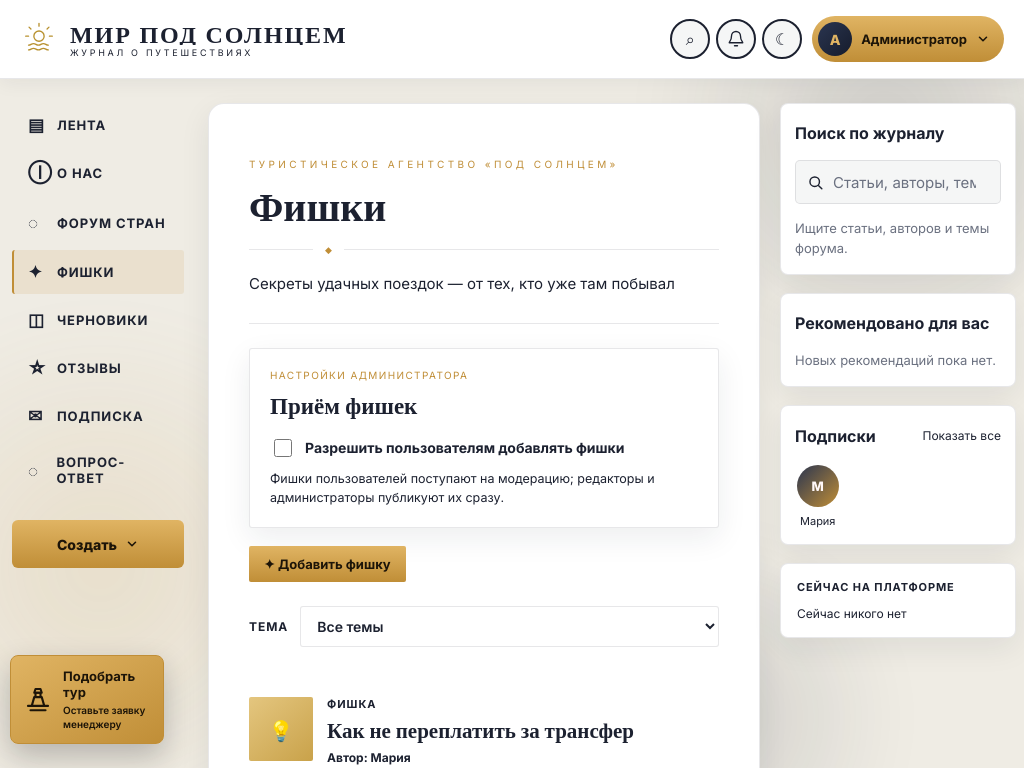
Test: App pathname routing › keeps the admin fishka setting unchanged when its update fails
This screenshot has width=1024, height=768.
Click the checkbox labelled "Разрешить пользователям добавлять фишки".
click(283, 448)  # box [274,439,292,457]
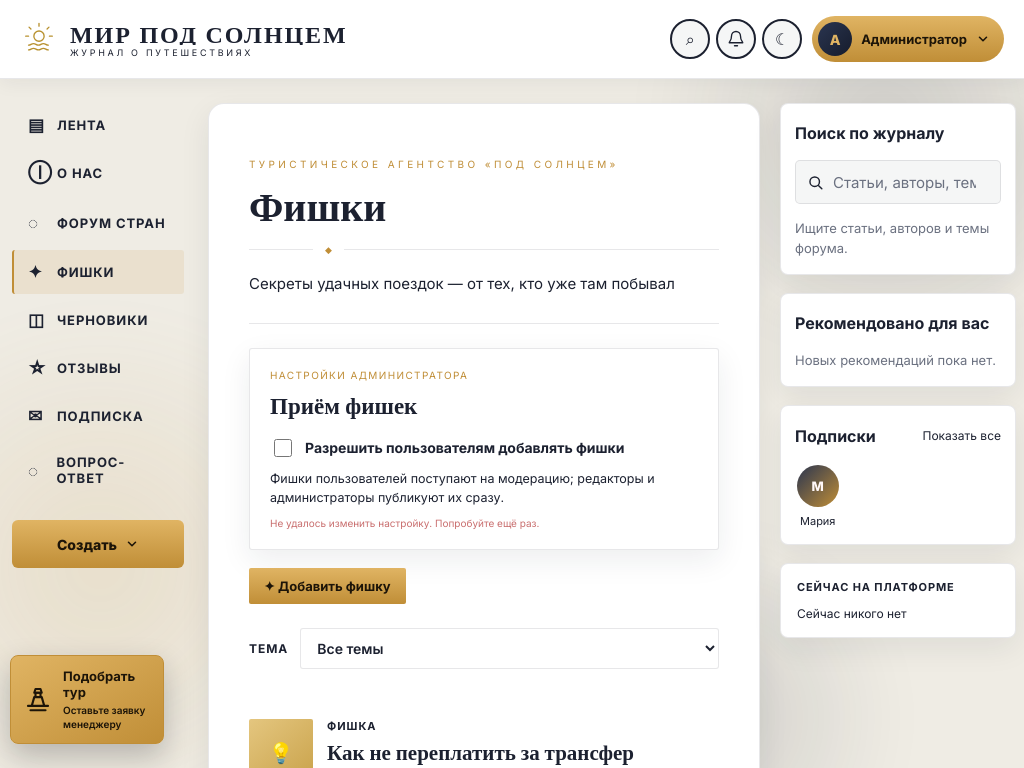
expect the message shows "Не удалось изменить настройку": met, box [270,517,539,529]
